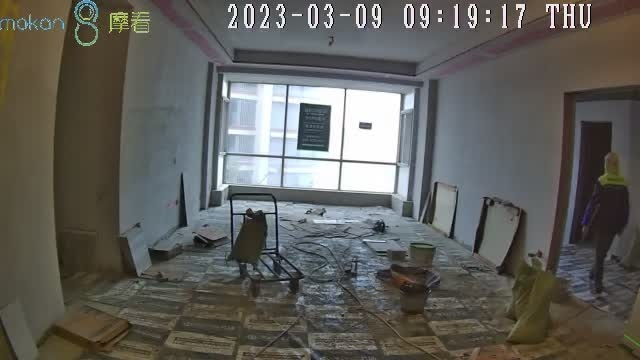people: (582, 153, 630, 296)
window: (222, 79, 398, 195)
